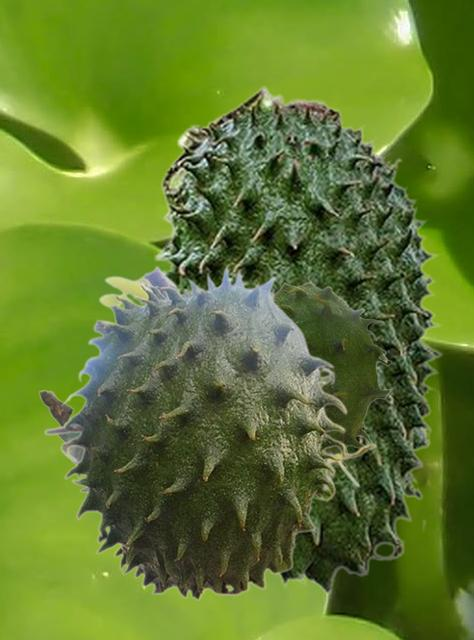guyabano: (152, 84, 443, 594), (43, 262, 377, 601), (38, 282, 391, 493)
